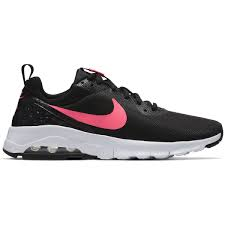nike: (45, 95, 129, 134)
